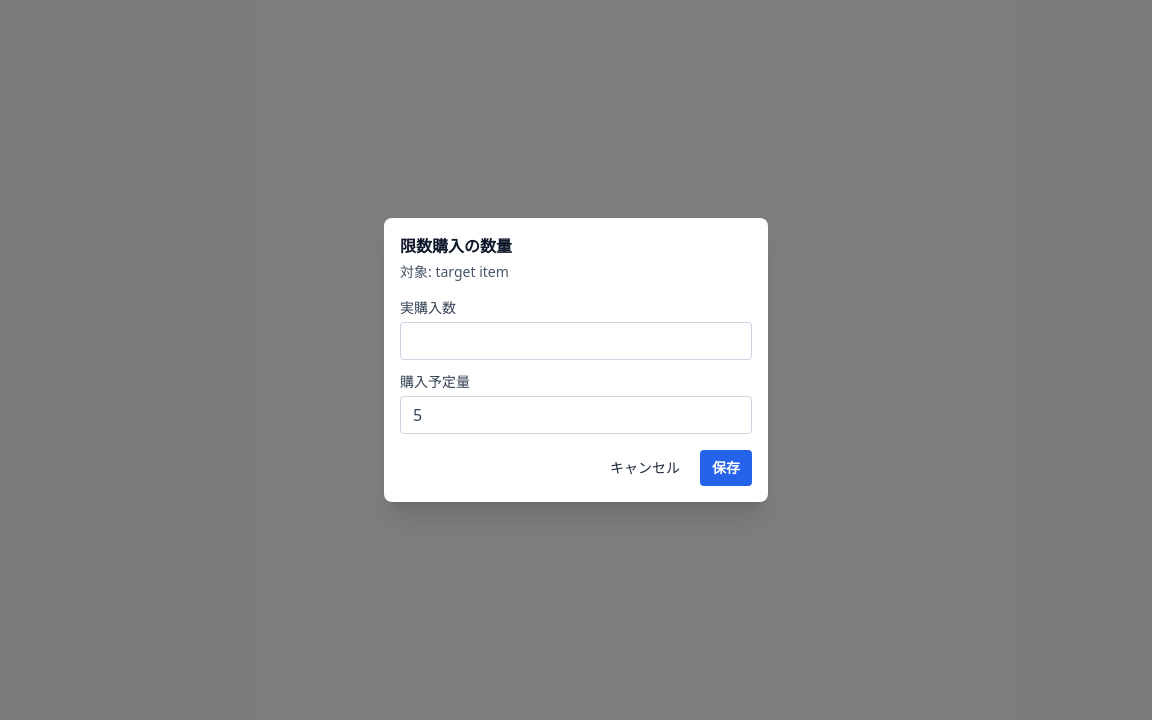
Test: LimitedPurchaseDialog › treats non-decimal actual input as an integer error instead of blank
This screenshot has width=1152, height=720.
Type "abc" into the field labelled "実購入数".
click(576, 341); type("abc")  # box [400,322,752,360]
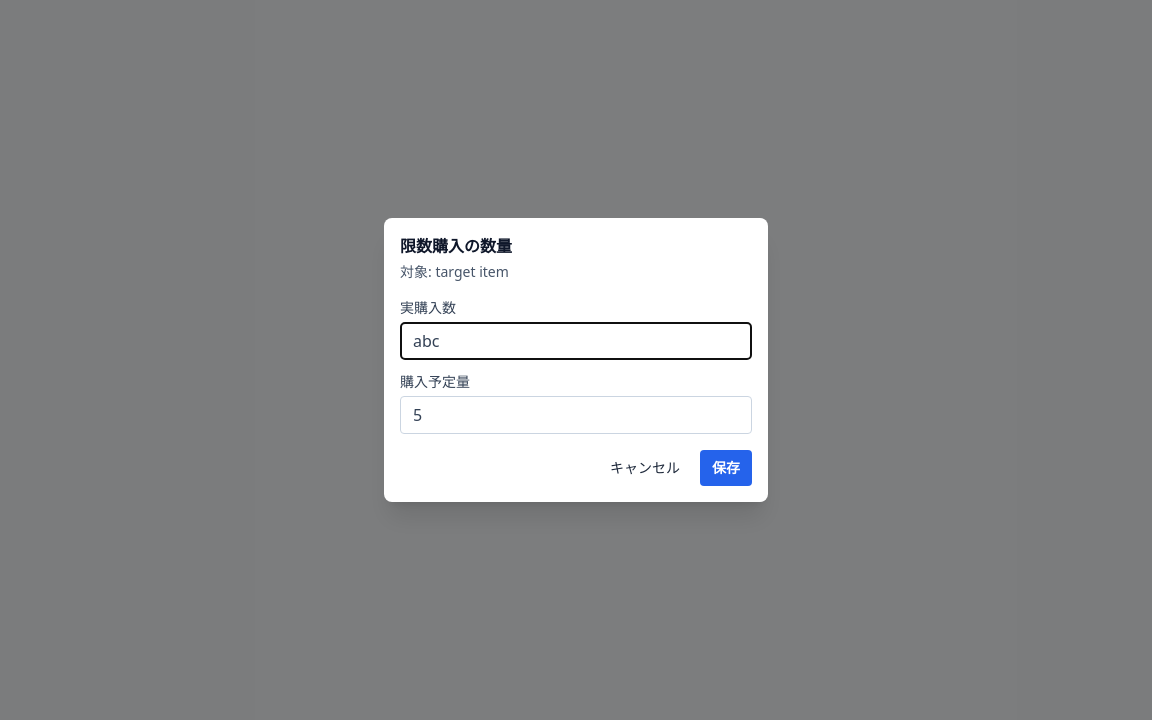
Clear the field labelled "購入予定量" at (576, 415), box [400,396,752,434]
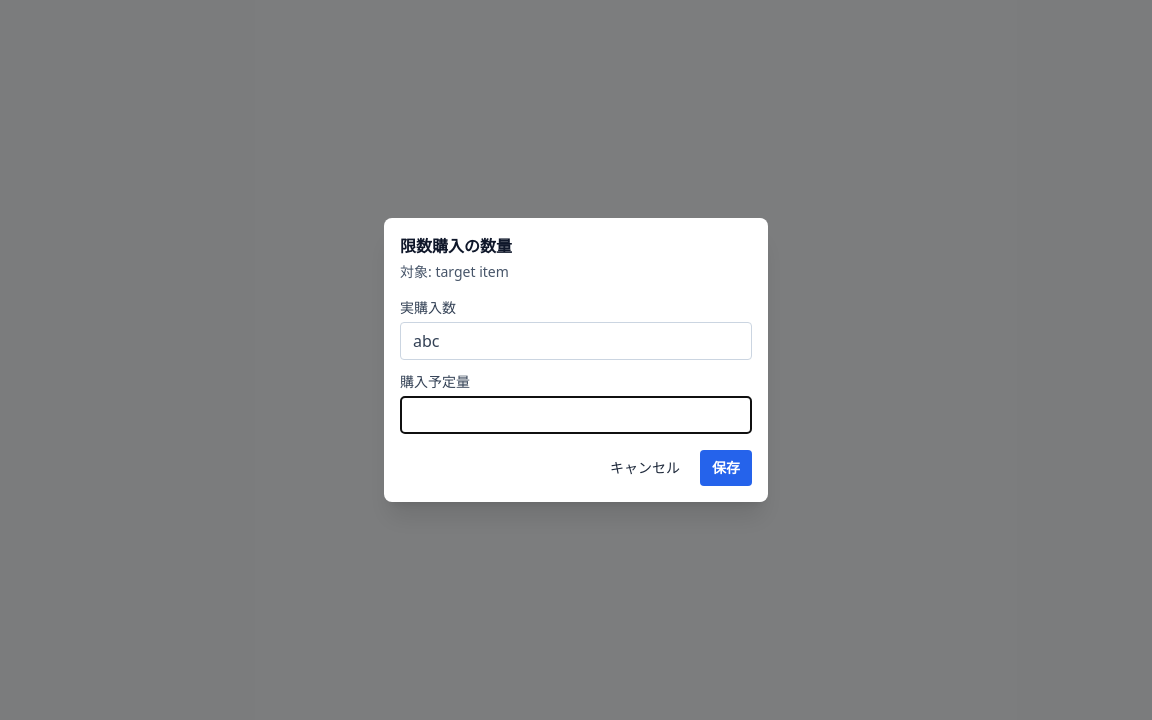
Click the button "保存".
click(726, 468)  # box [700,450,752,486]
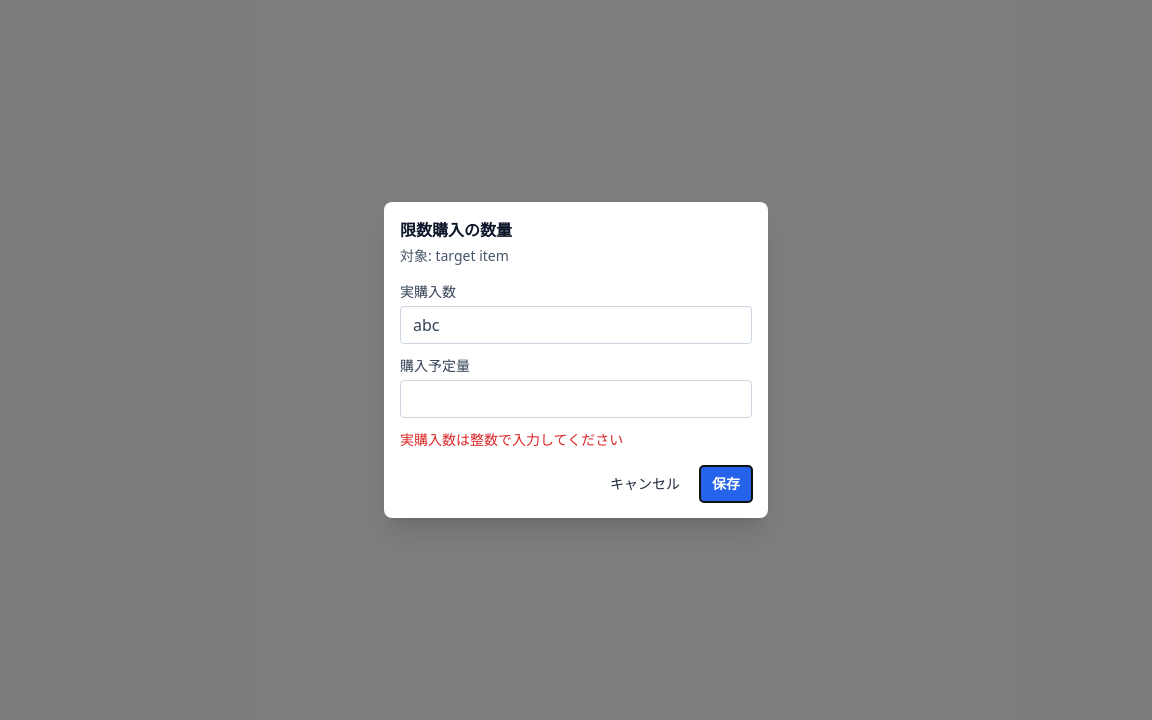
Expected: the text "実購入数は整数で入力してください" is shown, [400,430,623,449]
